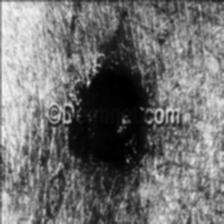Potentially Malignant Skin Tumors: (78, 120, 146, 166), (76, 64, 152, 102)
